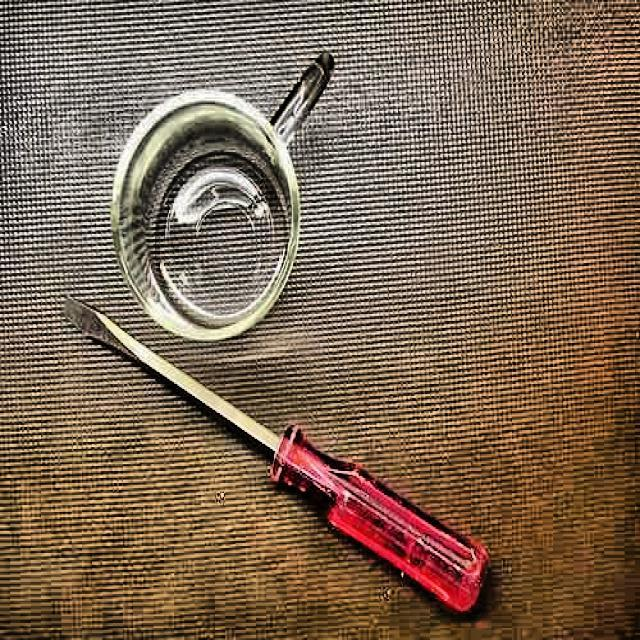screwdriver: (59, 296, 488, 614)
